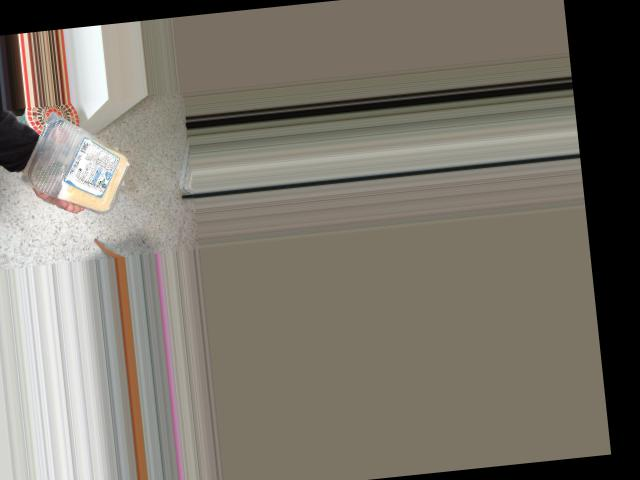cheese: (26, 114, 137, 213)
